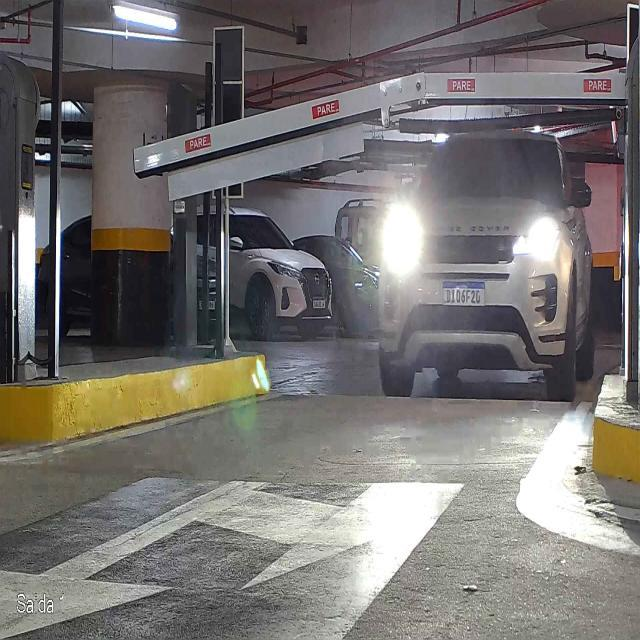mercosul_plate: (441, 280, 486, 307)
